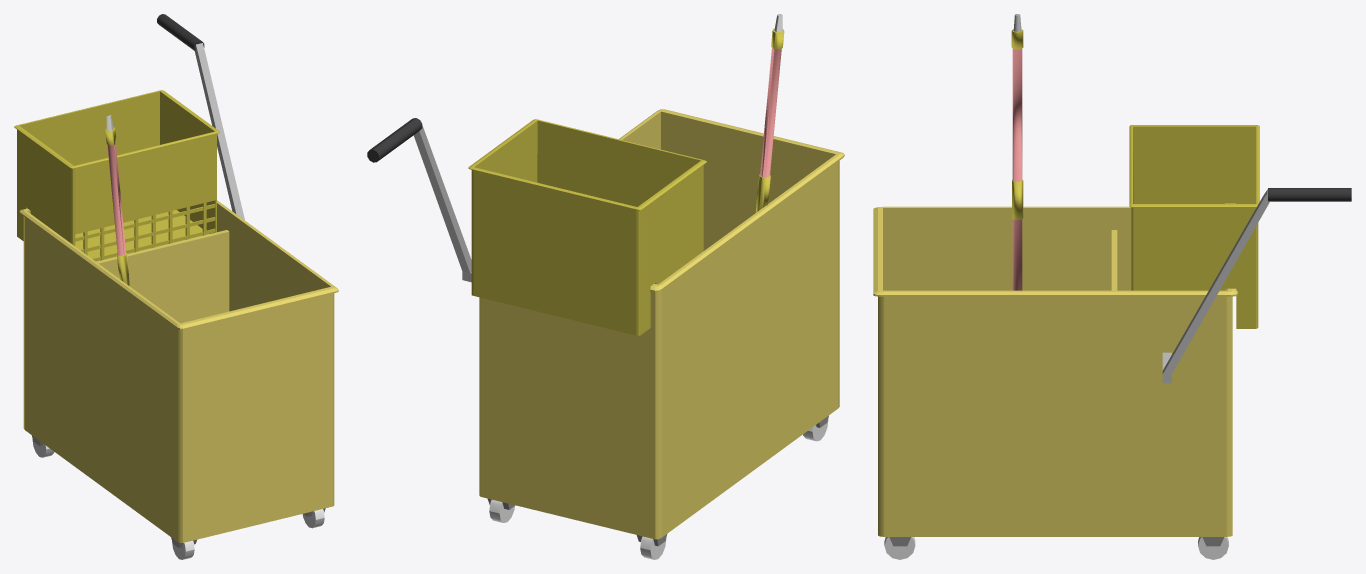
The model's file is Cleaning Bucket.fbx.
3 views of the same model, side by side, from view 1: azimuth 30°, elevation 25°; view 2: azimuth 150°, elevation 25°; view 3: azimuth 270°, elevation 25° (orthographic). The views are drawn at different scales.
Parts seen in each view (by area): view 1: Cleaning Bucket Final; view 2: Cleaning Bucket Final; view 3: Cleaning Bucket Final.
Boxes of the visible parts, left/top/right/bottom form: Cleaning Bucket Final: left=14, top=14, right=338, bottom=559; Cleaning Bucket Final: left=367, top=14, right=844, bottom=559; Cleaning Bucket Final: left=873, top=14, right=1351, bottom=559.
Bounding box in the file's own units: 64.26 × 120 × 113.
